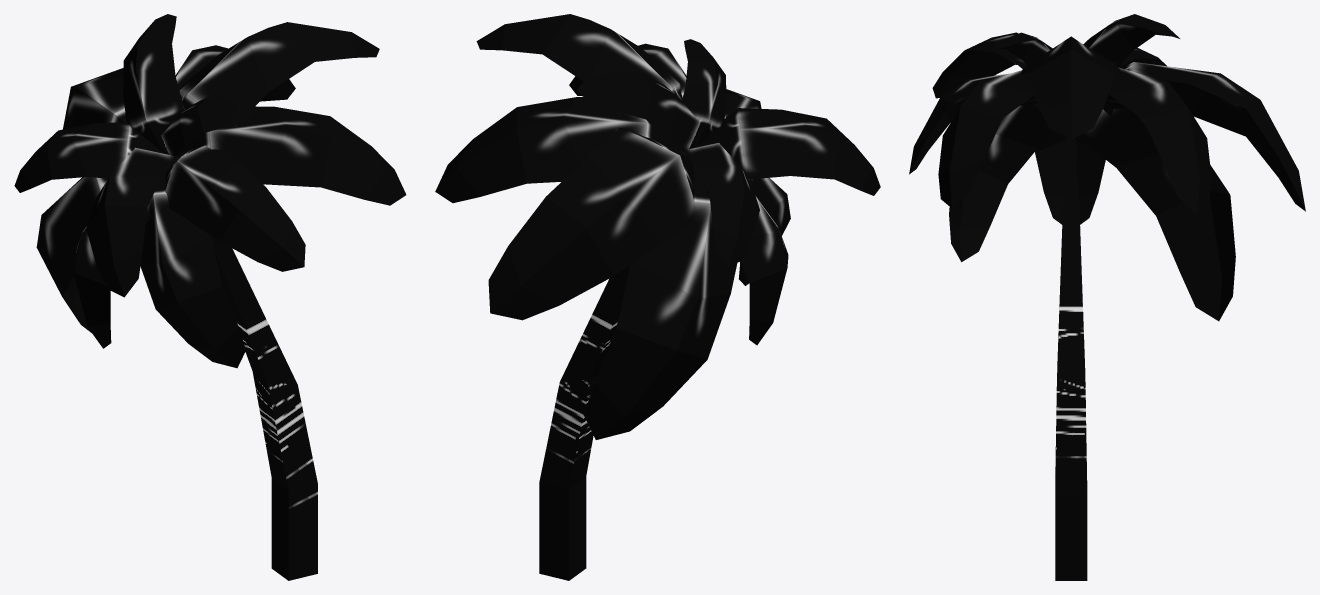
The model's file is CoconutTree.fbx.
The picture shows the model from 3 angles, left to right: view 1: azimuth 30°, elevation 25°; view 2: azimuth 150°, elevation 25°; view 3: azimuth 270°, elevation 25°; orthographic projection. The views are drawn at different scales.
Parts seen in each view (by area): view 1: CoconutTree_Leaf, CoconutTree_Bark; view 2: CoconutTree_Leaf, CoconutTree_Bark; view 3: CoconutTree_Leaf, CoconutTree_Bark.
Boxes of the visible parts, bbox=[...] form: CoconutTree_Leaf: bbox=[14, 14, 406, 368]; CoconutTree_Bark: bbox=[211, 236, 317, 580]; CoconutTree_Leaf: bbox=[435, 14, 880, 439]; CoconutTree_Bark: bbox=[539, 265, 630, 580]; CoconutTree_Leaf: bbox=[909, 14, 1305, 321]; CoconutTree_Bark: bbox=[1055, 137, 1087, 580].
Size of the model in its own units: 567 by 900 by 621.
